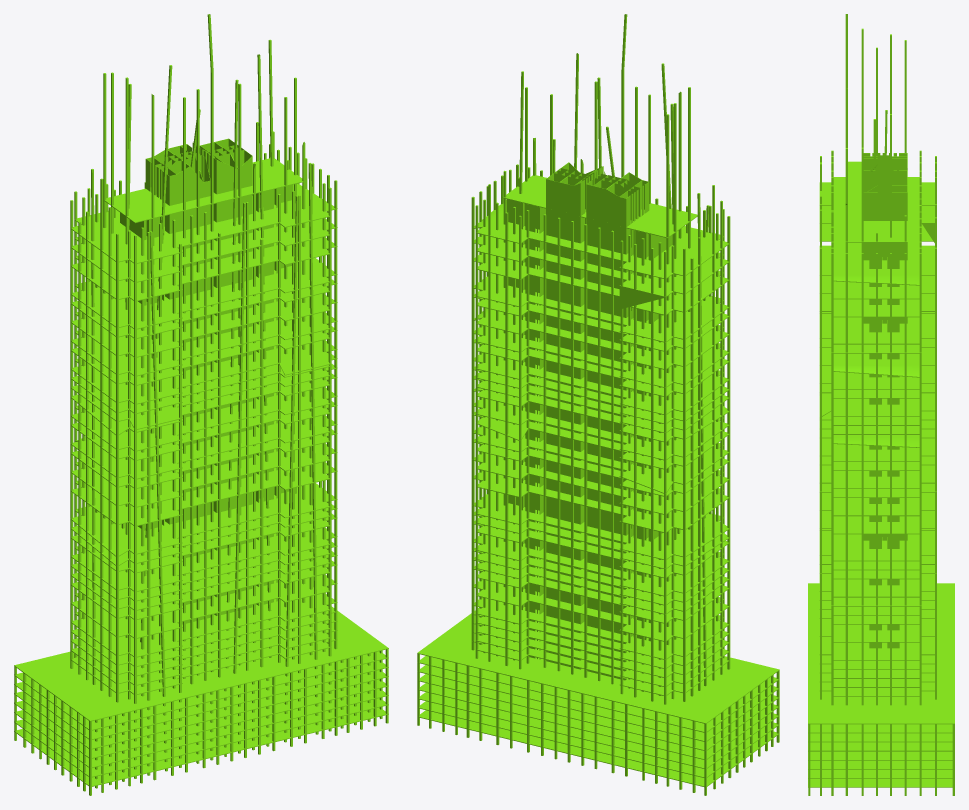
The model's file is Building_04_6.FBX.
The picture shows the model from 3 angles, left to right: view 1: azimuth 30°, elevation 25°; view 2: azimuth 150°, elevation 25°; view 3: azimuth 270°, elevation 25°; orthographic projection. The views are drawn at different scales.
Visible parts, largest first — view 1: Building_04_6; view 2: Building_04_6; view 3: Building_04_6.
Part boxes in pixels (x1=…): Building_04_6: x1=14, y1=14, x2=388, y2=795; Building_04_6: x1=417, y1=14, x2=779, y2=795; Building_04_6: x1=808, y1=14, x2=954, y2=795.
Size of the model in its own units: 126639 by 296994 by 55936.
